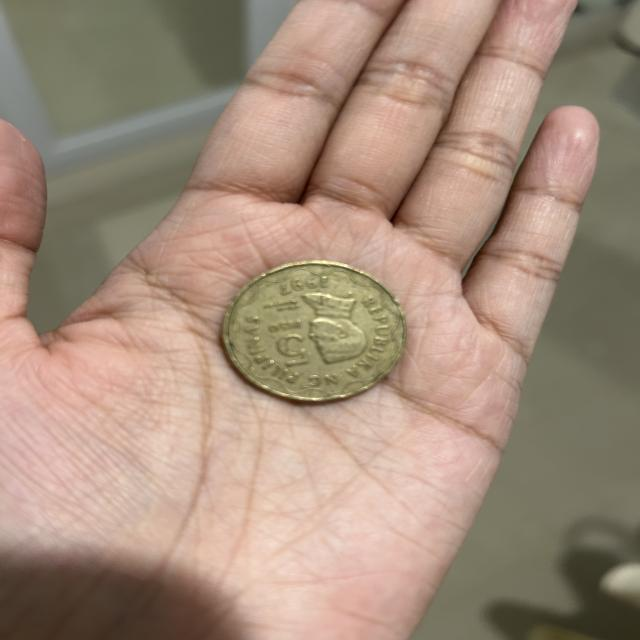5_Old_Front: (260, 315, 318, 372)
